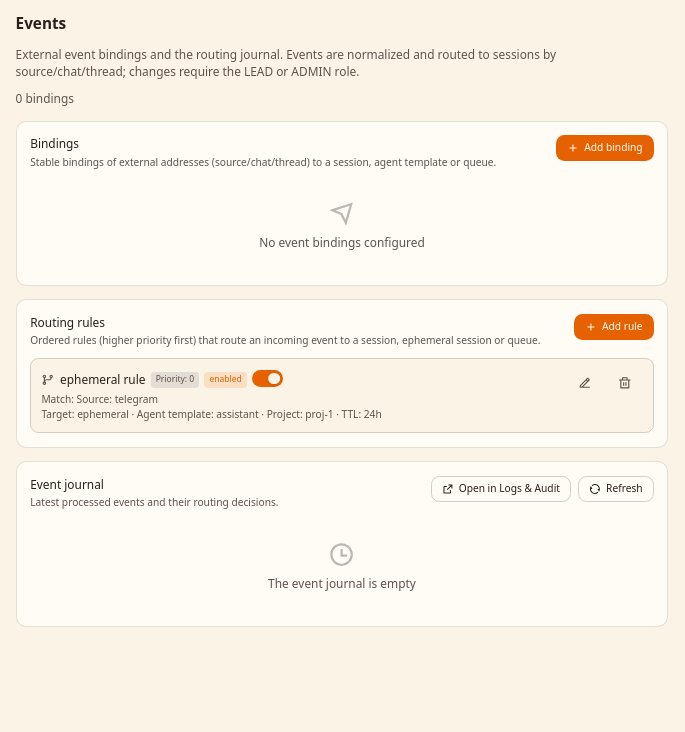
Test case: EventsAdminSettings — правила маршрутизации (ADR-089) › редактирование правила показывает текущие значения (ephemeral)
The image size is (685, 732).
Click the button with test id "events-route-edit-r1".
click(585, 382)  # box [567, 369, 603, 395]
(page scrolled)
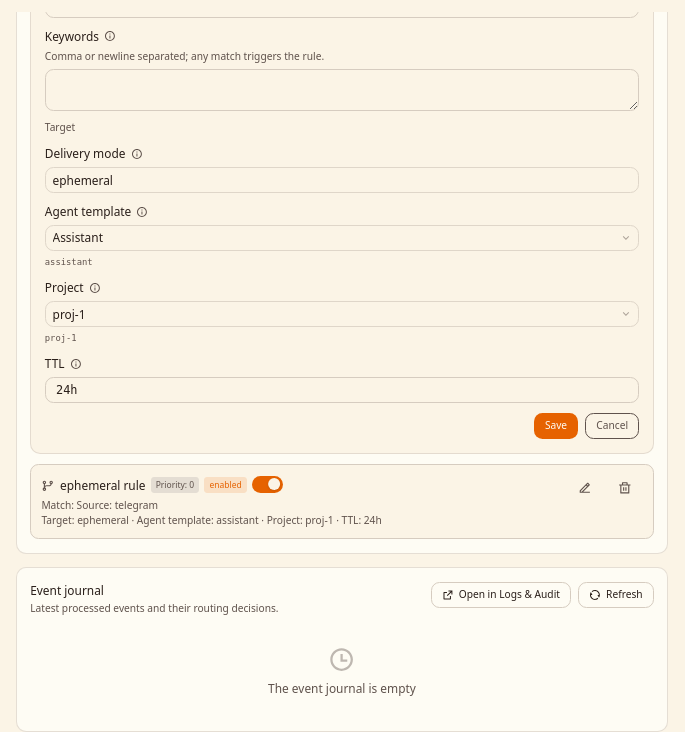
Result: the text with test id "events-route-agent-id" reads "assistant" at [45, 257, 93, 267]
Result: the text with test id "events-route-project-id" reads "proj-1" at [45, 333, 77, 343]
Result: the field with test id "events-route-ttl" holds "24h" at [45, 377, 639, 403]
